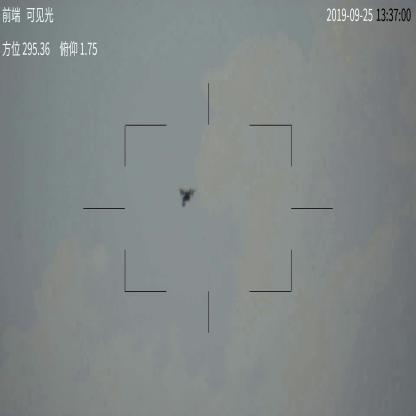uav: (179, 183, 196, 209)
